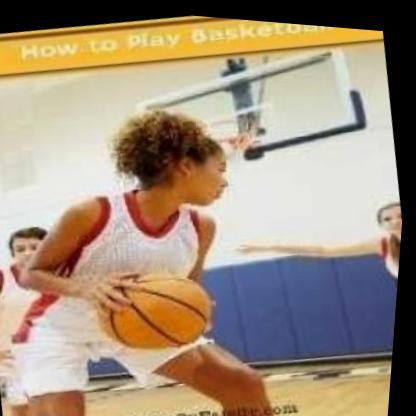basketball: (94, 253, 230, 366)
